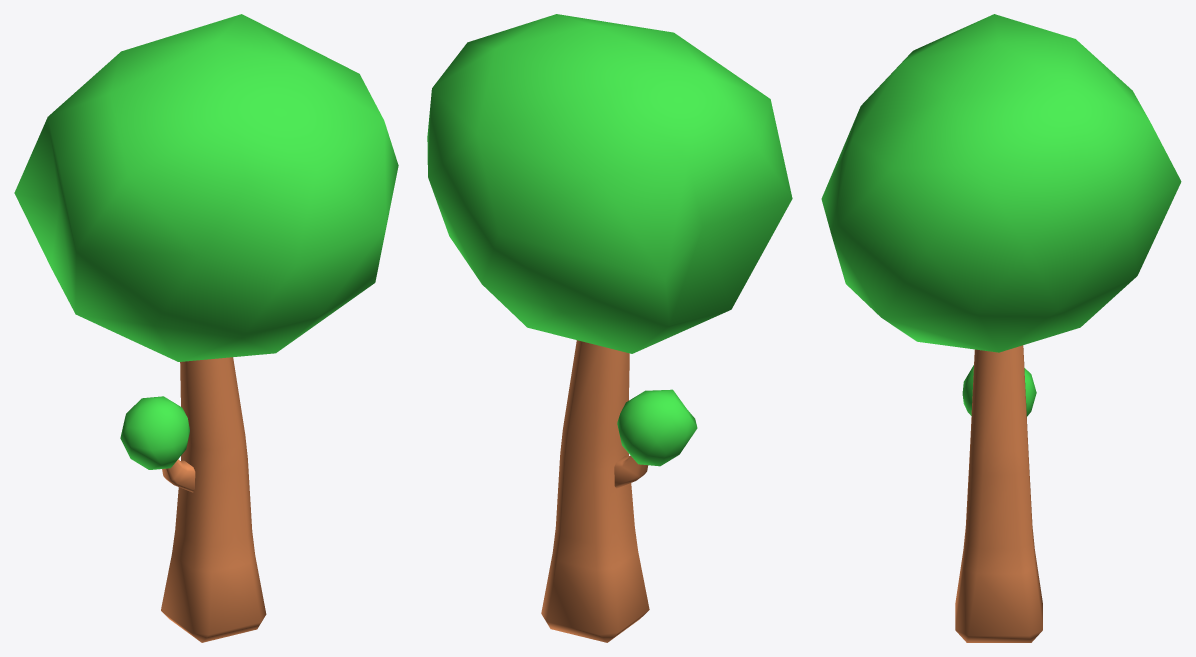
Rendered from Tree.fbx.
The picture shows the model from 3 angles, left to right: view 1: azimuth 30°, elevation 25°; view 2: azimuth 150°, elevation 25°; view 3: azimuth 270°, elevation 25°; orthographic projection. The views are drawn at different scales.
Visible parts, largest first — view 1: Cube; view 2: Cube; view 3: Cube.
Boxes of the visible parts, x1=… form: Cube: x1=14, y1=14, x2=398, y2=642; Cube: x1=427, y1=14, x2=792, y2=642; Cube: x1=821, y1=14, x2=1181, y2=642.
Bounding box in the file's own units: 4.6 × 4.53 × 8.16.
